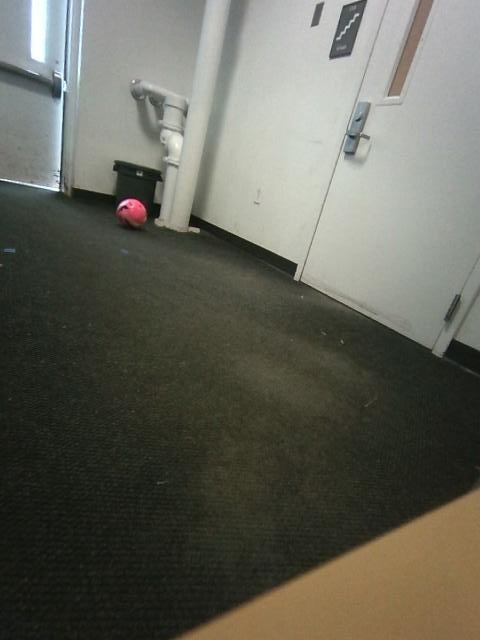ball: (116, 198, 146, 228)
